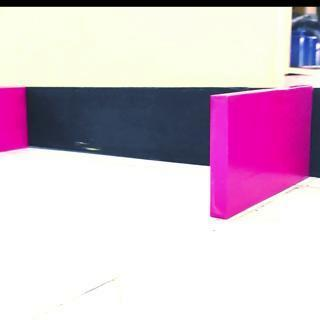xparking: (210, 96, 310, 206), (0, 86, 26, 154)
